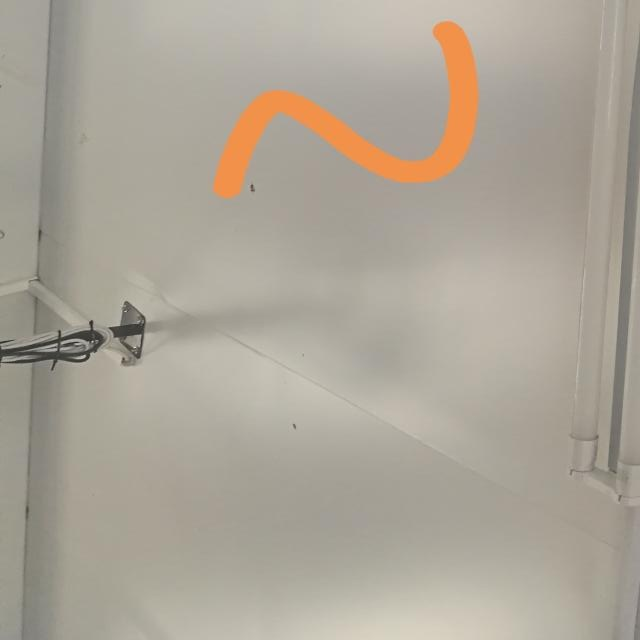fluorescent tube: (528, 0, 640, 521)
